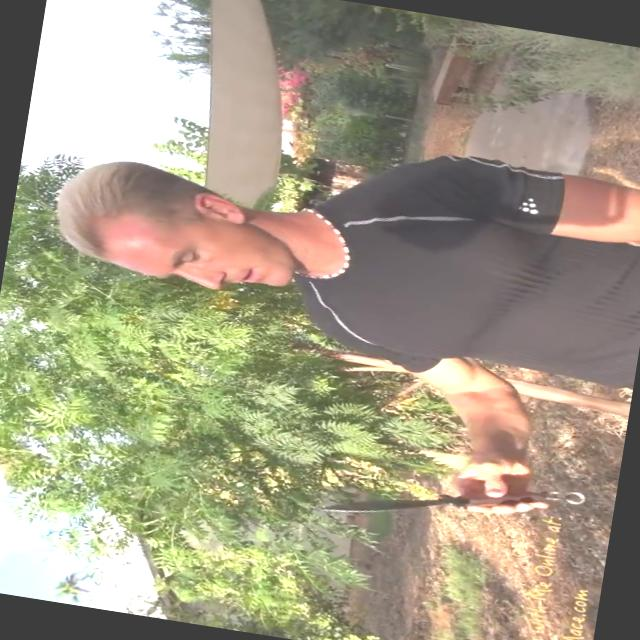knife: (306, 436, 591, 556)
